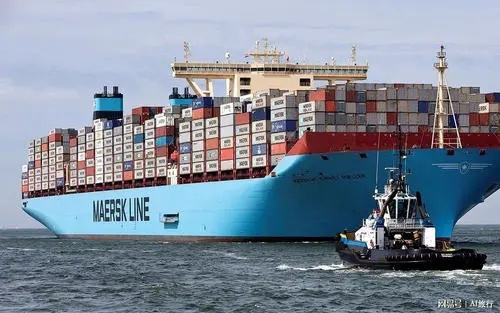Cargoship: (8, 37, 500, 241)
otherboat: (336, 175, 488, 268)
